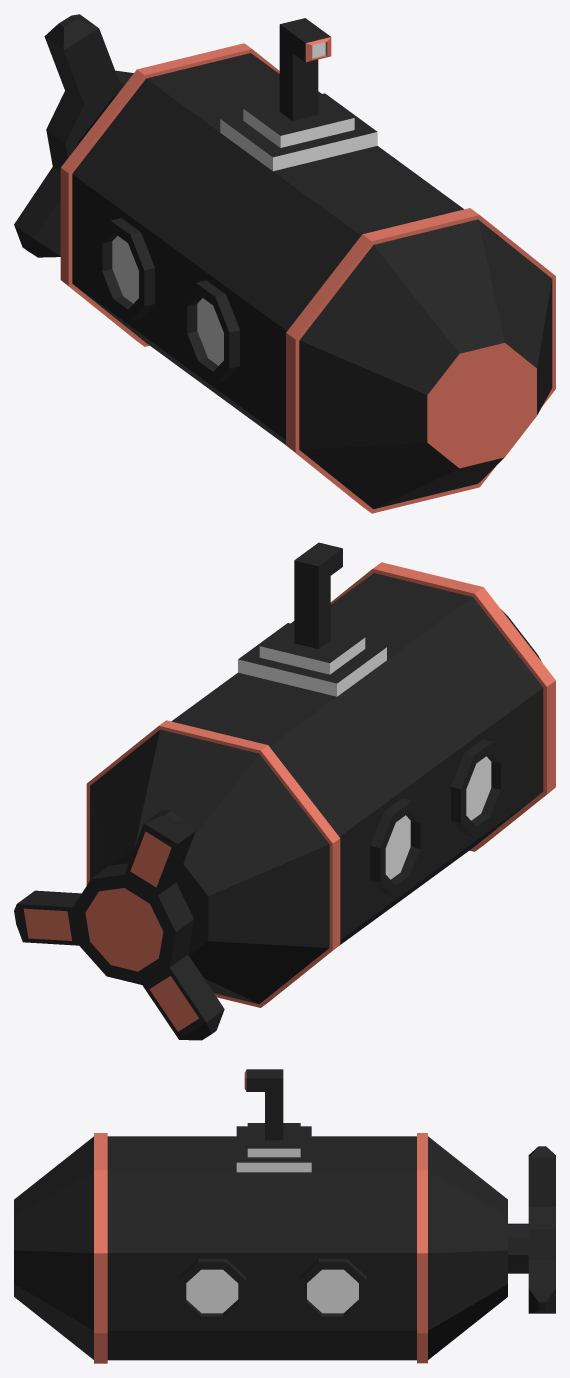
File: submarine.fbx
The picture shows the model from 3 angles, top to bottom: view 1: azimuth 30°, elevation 25°; view 2: azimuth 150°, elevation 25°; view 3: azimuth 270°, elevation 25°; orthographic projection. The views are drawn at different scales.
Visible parts, largest first — view 1: Cube, Cylinder; view 2: Cube, Cylinder; view 3: Cube, Cylinder.
Boxes of the visible parts, bbox=[...] form: Cube: bbox=[60, 18, 555, 513]; Cylinder: bbox=[14, 14, 133, 257]; Cube: bbox=[86, 542, 555, 1007]; Cylinder: bbox=[14, 810, 224, 1040]; Cube: bbox=[14, 1069, 507, 1363]; Cylinder: bbox=[508, 1146, 555, 1313].
Size of the model in its own units: 200 by 267 by 483.
